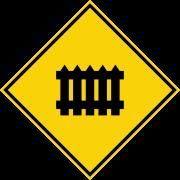Barrier Ahead: (19, 8, 162, 158)
